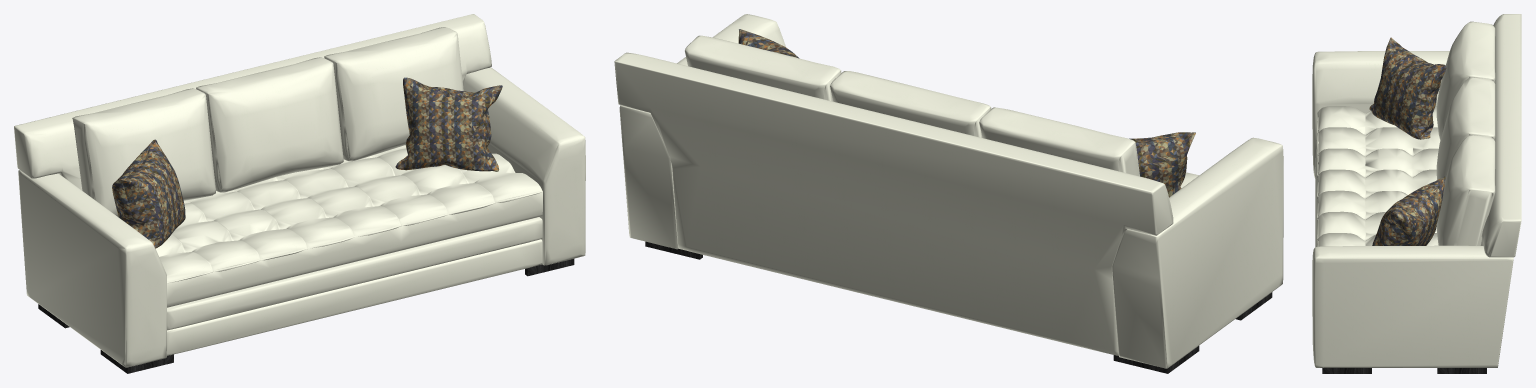
File: burtonjames_736_sofa.gltf
3 renders of one model, left to right at view 1: azimuth 30°, elevation 25°; view 2: azimuth 150°, elevation 25°; view 3: azimuth 270°, elevation 25°, orthographic. The views are drawn at different scales.
Visible parts, largest first — view 1: burtonjames_736_sofa; view 2: burtonjames_736_sofa; view 3: burtonjames_736_sofa.
Boxes of the visible parts, x1,y1,x2,y2 form: burtonjames_736_sofa: (14,14,585,373); burtonjames_736_sofa: (614,14,1283,373); burtonjames_736_sofa: (1312,14,1521,373).
Bounding box in the file's own units: 2514 × 955 × 1074.
3 materials, 3 textured.
